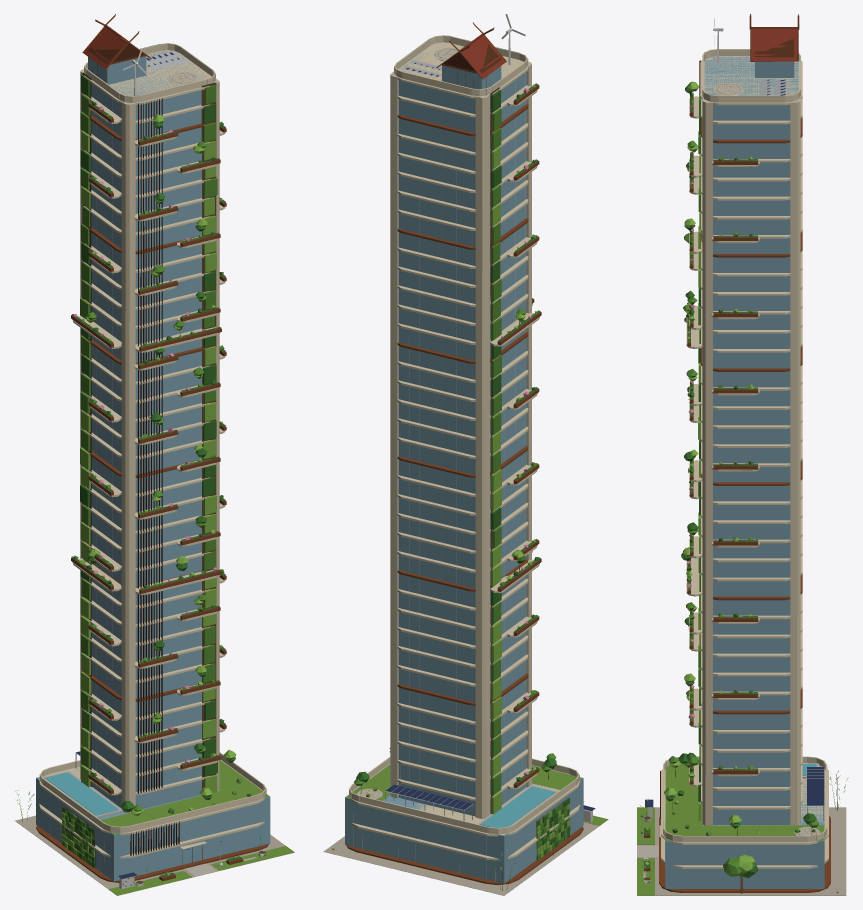
Rendered from home_5.glb.
3 views of the same model, side by side, from view 1: azimuth 30°, elevation 25°; view 2: azimuth 150°, elevation 25°; view 3: azimuth 270°, elevation 25° (orthographic). The views are drawn at different scales.
Visible parts, largest first — view 1: body; view 2: body; view 3: body.
Part boxes in pixels (x1,y1,x2,y2): body: [14, 14, 294, 895]; body: [323, 14, 608, 895]; body: [637, 14, 848, 895].
Size of the model in its own units: 34.39 by 138 by 32.27.
